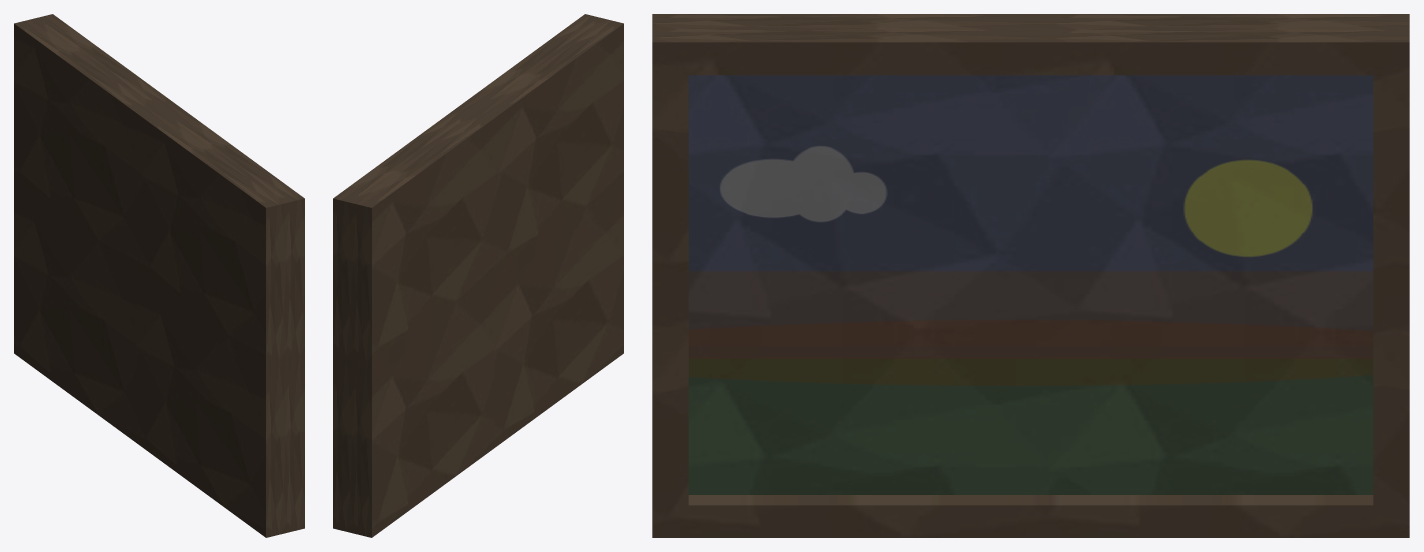
File: painting.fbx
3 renders of one model, left to right at view 1: azimuth 30°, elevation 25°; view 2: azimuth 150°, elevation 25°; view 3: azimuth 270°, elevation 25°, orthographic. The views are drawn at different scales.
Visible parts, largest first — view 1: Cube; view 2: Cube; view 3: Cube.
Boxes of the visible parts, <box> form: Cube: <box>14,14,304,537</box>; Cube: <box>333,14,623,537</box>; Cube: <box>652,14,1409,537</box>.
Size of the model in its own units: 8 by 65 by 90.
1 material, 1 textured.
